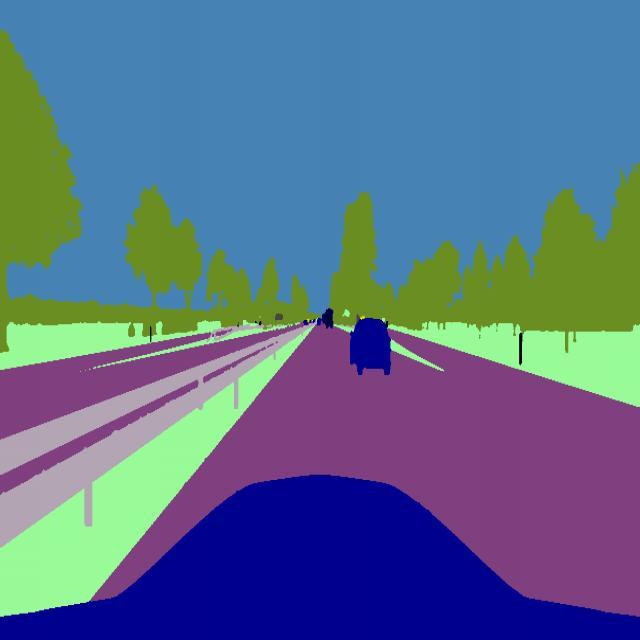safe: (347, 311, 398, 377), (320, 306, 336, 332)
